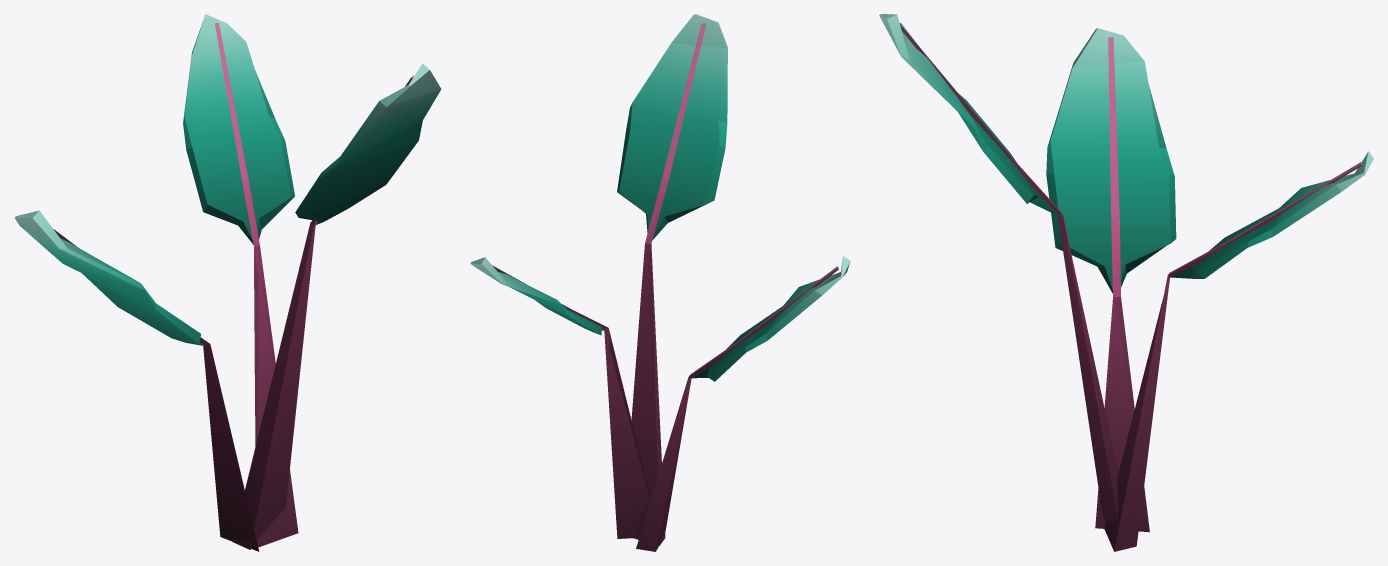
Rendered from Plant_B_1.fbx.
3 views of the same model, side by side, from view 1: azimuth 30°, elevation 25°; view 2: azimuth 150°, elevation 25°; view 3: azimuth 270°, elevation 25° (orthographic). The views are drawn at different scales.
Parts seen in each view (by area): view 1: Plant_B_1; view 2: Plant_B_1; view 3: Plant_B_1.
Part boxes in pixels (box(x1,y1,x2,y2)): Plant_B_1: box(15, 14, 441, 551); Plant_B_1: box(470, 14, 850, 551); Plant_B_1: box(879, 14, 1373, 551).
Size of the model in its own units: 34.51 by 52.94 by 43.56.
